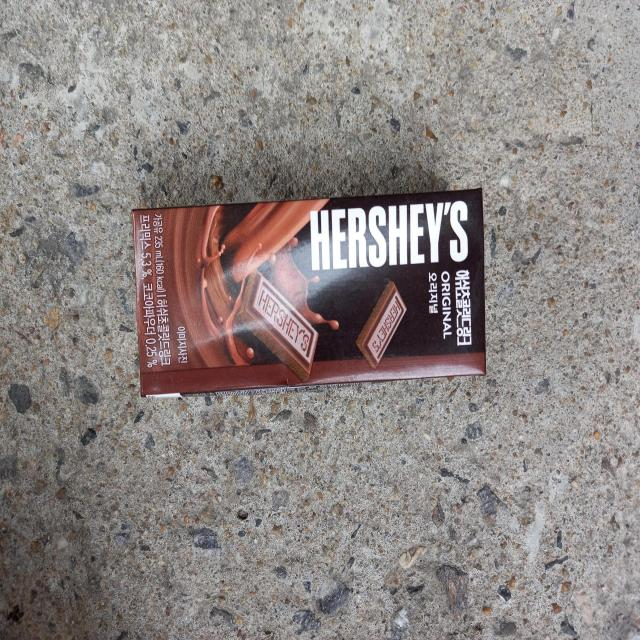paperpack: (132, 189, 486, 396)
